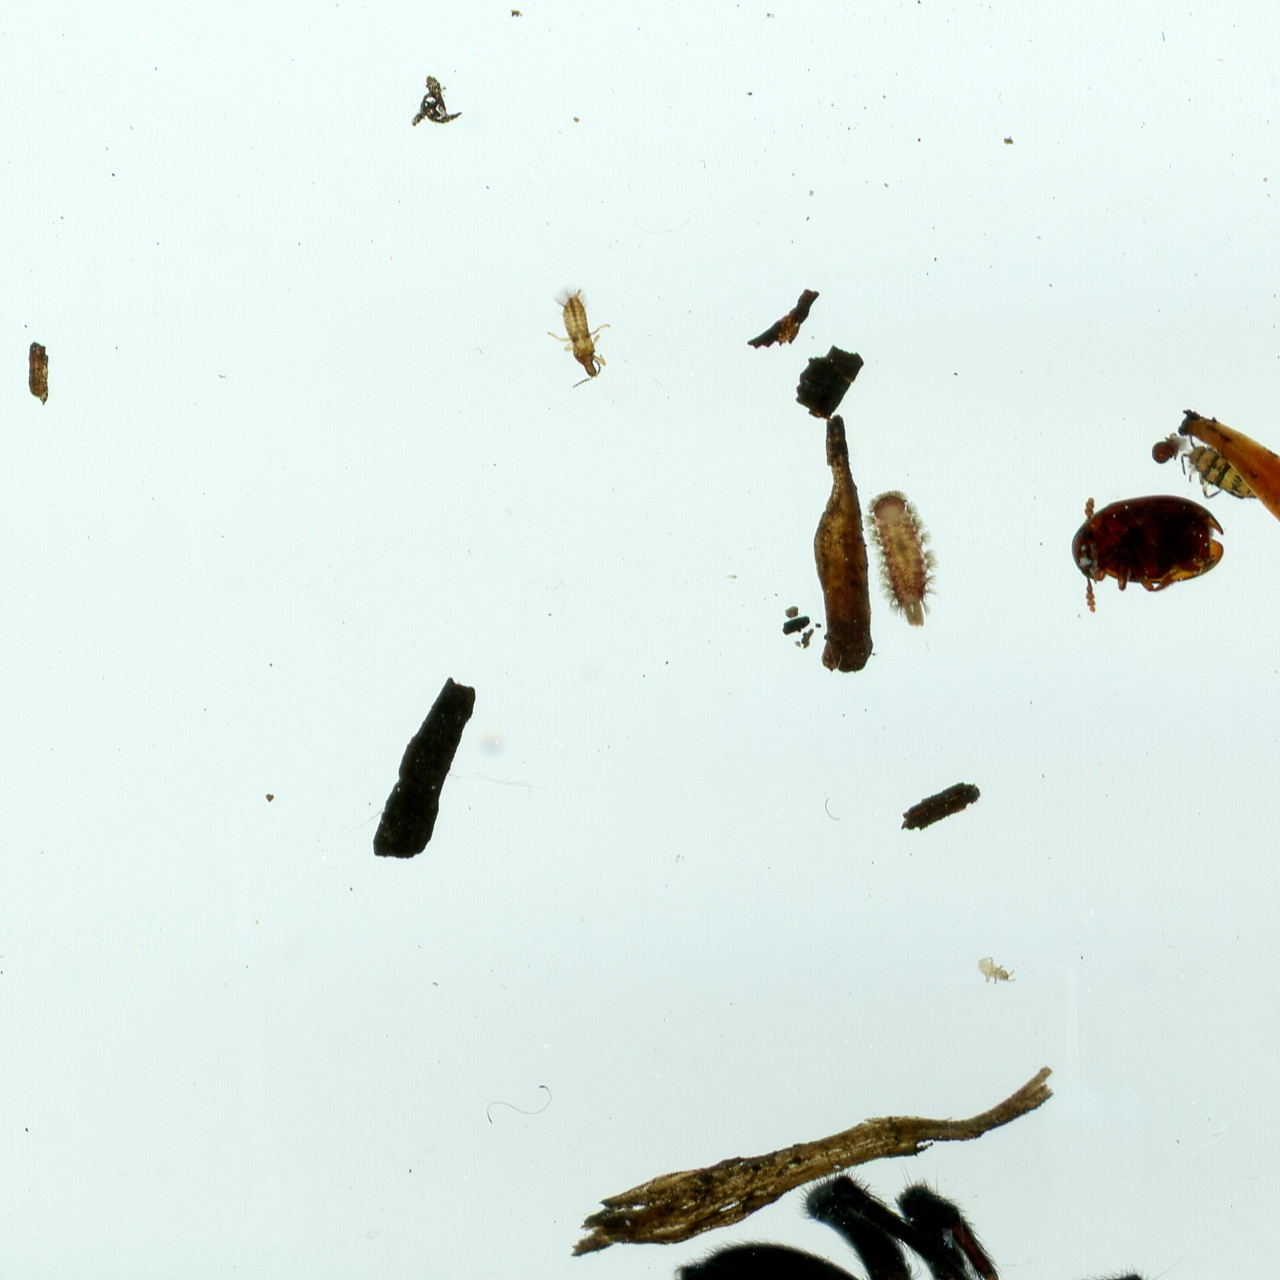arthropod: (658, 1152, 1260, 1280), (1068, 493, 1226, 614), (860, 485, 944, 629), (545, 285, 614, 390), (1179, 434, 1258, 501), (976, 954, 1017, 986), (1150, 430, 1182, 467)
